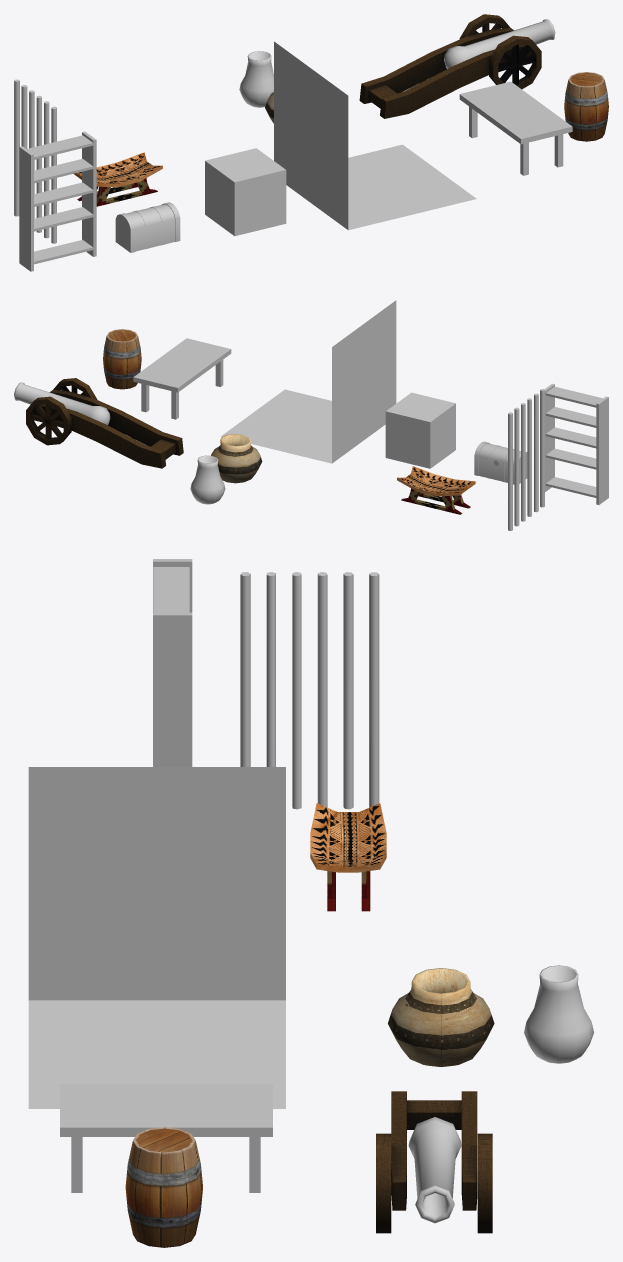
File: tudo.fbx
The picture shows the model from 3 angles, top to bottom: view 1: azimuth 30°, elevation 25°; view 2: azimuth 150°, elevation 25°; view 3: azimuth 270°, elevation 25°; orthographic projection. The views are drawn at different scales.
Parts seen in each view (by area): view 1: Cube_004, Sphere_002, polySurface11, Cube_003, Cube_001, Cube, Cylinder, pCylinder1, treasure_chest_001, polySurface1_pCube1, pCylinder7; view 2: Cube_004, Sphere_002, Cube_003, polySurface11, Cube_001, Cylinder, Cube, polySurface1_pCube1, pCylinder1, pCylinder4, treasure_chest_001, pCylinder7; view 3: Cube_004, Cube_003, Cylinder, Sphere_002, Cube, polySurface11, pCylinder1, pCylinder4, polySurface1_pCube1, pCylinder7.
Boxes of the visible parts, x1=… form: Cube_004: x1=274, y1=41, x2=348, y2=229; Sphere_002: x1=359, y1=14, x2=555, y2=118; polySurface11: x1=19, y1=131, x2=96, y2=271; Cube_003: x1=348, y1=144, x2=476, y2=230; Cube_001: x1=205, y1=148, x2=286, y2=236; Cube: x1=459, y1=81, x2=572, y2=175; Cylinder: x1=14, y1=79, x2=56, y2=243; pCylinder1: x1=564, y1=72, x2=608, y2=141; treasure_chest_001: x1=115, y1=202, x2=180, y2=252; polySurface1_pCube1: x1=73, y1=152, x2=162, y2=206; pCylinder7: x1=239, y1=51, x2=273, y2=107; Cube_004: x1=332, y1=300, x2=396, y2=463; Sphere_002: x1=14, y1=378, x2=183, y2=468; Cube_003: x1=221, y1=389, x2=331, y2=463; polySurface11: x1=544, y1=383, x2=608, y2=504; Cube_001: x1=385, y1=392, x2=455, y2=468; Cylinder: x1=508, y1=389, x2=544, y2=530; Cube: x1=133, y1=338, x2=231, y2=419; polySurface1_pCube1: x1=397, y1=466, x2=475, y2=514; pCylinder1: x1=103, y1=329, x2=141, y2=389; pCylinder4: x1=211, y1=434, x2=262, y2=483; treasure_chest_001: x1=474, y1=441, x2=527, y2=484; pCylinder7: x1=190, y1=455, x2=225, y2=504; Cube_004: x1=28, y1=767, x2=285, y2=1000; Cube_003: x1=28, y1=1000, x2=285, y2=1108; Cylinder: x1=240, y1=572, x2=379, y2=809; Sphere_002: x1=376, y1=1091, x2=492, y2=1233; Cube: x1=60, y1=1084, x2=272, y2=1192; polySurface11: x1=153, y1=559, x2=192, y2=766; pCylinder1: x1=125, y1=1127, x2=202, y2=1247; pCylinder4: x1=388, y1=968, x2=494, y2=1066; polySurface1_pCube1: x1=310, y1=803, x2=386, y2=911; pCylinder7: x1=524, y1=965, x2=593, y2=1063.
Size of the model in its own units: 4.68 by 1.01 by 2.2.
